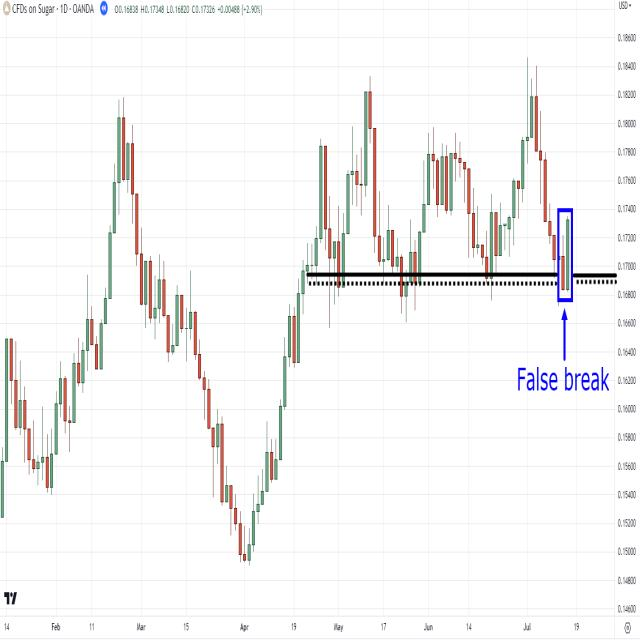Triple-Top: (339, 87, 557, 274)
